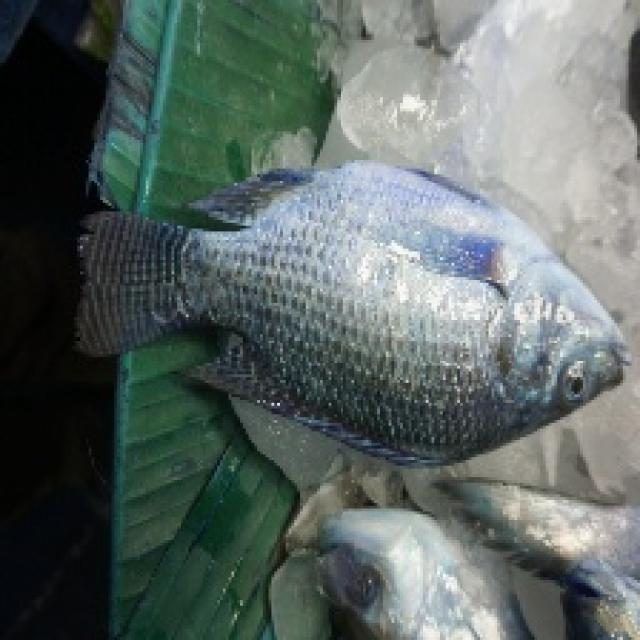Fresh: (195, 134, 634, 472)
